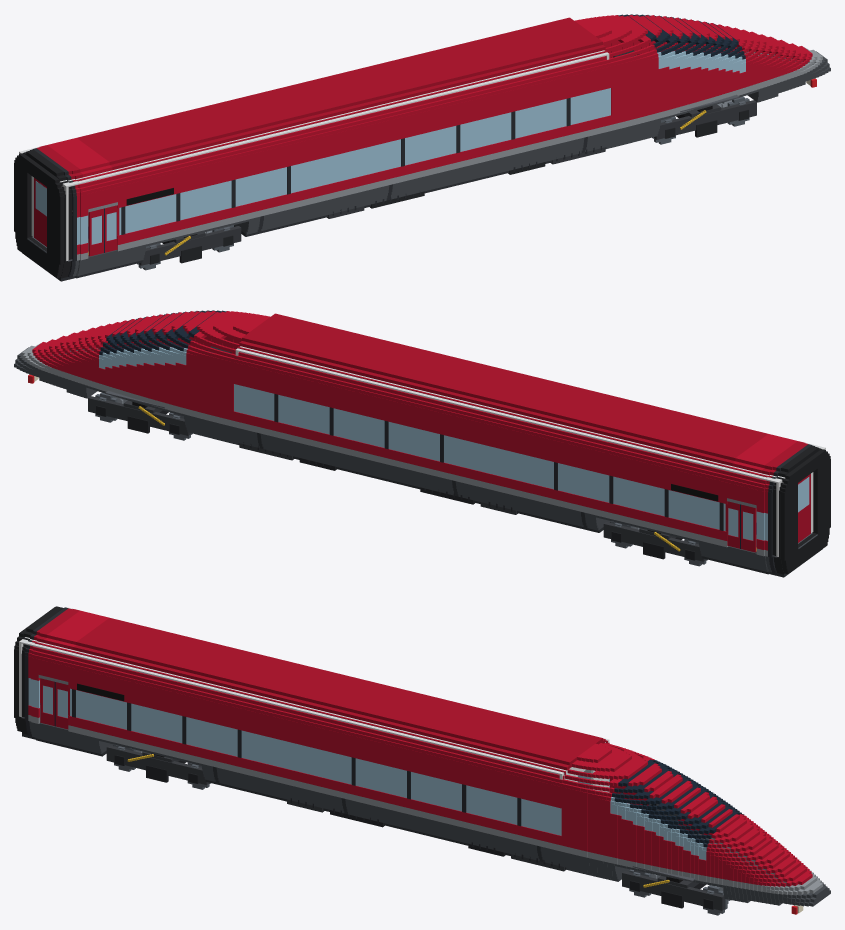
Rendered from frecciarossa_front.obj.
The picture shows the model from 3 angles, top to bottom: view 1: azimuth 30°, elevation 25°; view 2: azimuth 150°, elevation 25°; view 3: azimuth 330°, elevation 25°; orthographic projection.
Parts seen in each view (by area): view 1: SHELL, SHELL_diaphragm, SHELL_ceiling, BOGEY_FRONT, BOGEY_REAR, FRAME, CONNECTING_DOOR_1_CG_CR_TOGGLE_TL_0.98_Z, EXTERNAL_DOOR_3_CG_DR1_TOGGLE_TL_-0.44_X, EXTERNAL_DOOR_4_CG_DR1_TOGGLE_TL_0.44_X; view 2: SHELL, SHELL_diaphragm, SHELL_ceiling, BOGEY_FRONT, BOGEY_REAR, FRAME, CONNECTING_DOOR_1_CG_CR_TOGGLE_TL_0.98_Z, EXTERNAL_DOOR_6_CG_DL1_TOGGLE_TL_-0.44_X, EXTERNAL_DOOR_7_CG_DL1_TOGGLE_TL_0.44_X; view 3: SHELL, SHELL_ceiling, BOGEY_FRONT, BOGEY_REAR, FRAME, EXTERNAL_DOOR_3_CG_DR1_TOGGLE_TL_-0.44_X, EXTERNAL_DOOR_4_CG_DR1_TOGGLE_TL_0.44_X.
Boxes of the visible parts, box(x1,y1,x2,y2) form: SHELL: box(22, 14, 830, 281); SHELL_diaphragm: box(14, 153, 64, 278); SHELL_ceiling: box(21, 26, 606, 186); BOGEY_FRONT: box(654, 100, 756, 139); BOGEY_REAR: box(138, 226, 241, 265); FRAME: box(327, 146, 605, 218); CONNECTING_DOOR_1_CG_CR_TOGGLE_TL_0.98_Z: box(34, 178, 46, 246); EXTERNAL_DOOR_3_CG_DR1_TOGGLE_TL_-0.44_X: box(88, 208, 104, 256); EXTERNAL_DOOR_4_CG_DR1_TOGGLE_TL_0.44_X: box(105, 205, 119, 252); SHELL: box(14, 310, 822, 577); SHELL_diaphragm: box(780, 449, 830, 574); SHELL_ceiling: box(238, 322, 823, 482); BOGEY_FRONT: box(88, 396, 190, 435); BOGEY_REAR: box(603, 522, 706, 561); FRAME: box(239, 442, 517, 514); CONNECTING_DOOR_1_CG_CR_TOGGLE_TL_0.98_Z: box(798, 474, 810, 542); EXTERNAL_DOOR_6_CG_DL1_TOGGLE_TL_-0.44_X: box(740, 504, 756, 552); EXTERNAL_DOOR_7_CG_DL1_TOGGLE_TL_0.44_X: box(725, 501, 739, 548); SHELL: box(18, 606, 830, 906); SHELL_ceiling: box(21, 607, 606, 774); BOGEY_FRONT: box(622, 871, 724, 910); BOGEY_REAR: box(106, 745, 209, 784); FRAME: box(287, 798, 565, 871); EXTERNAL_DOOR_3_CG_DR1_TOGGLE_TL_-0.44_X: box(40, 678, 55, 726); EXTERNAL_DOOR_4_CG_DR1_TOGGLE_TL_0.44_X: box(55, 682, 69, 729).
Bounding box in the file's own units: 26.66 × 3.9 × 2.94.
Materials: 1 (1 with a texture image).
